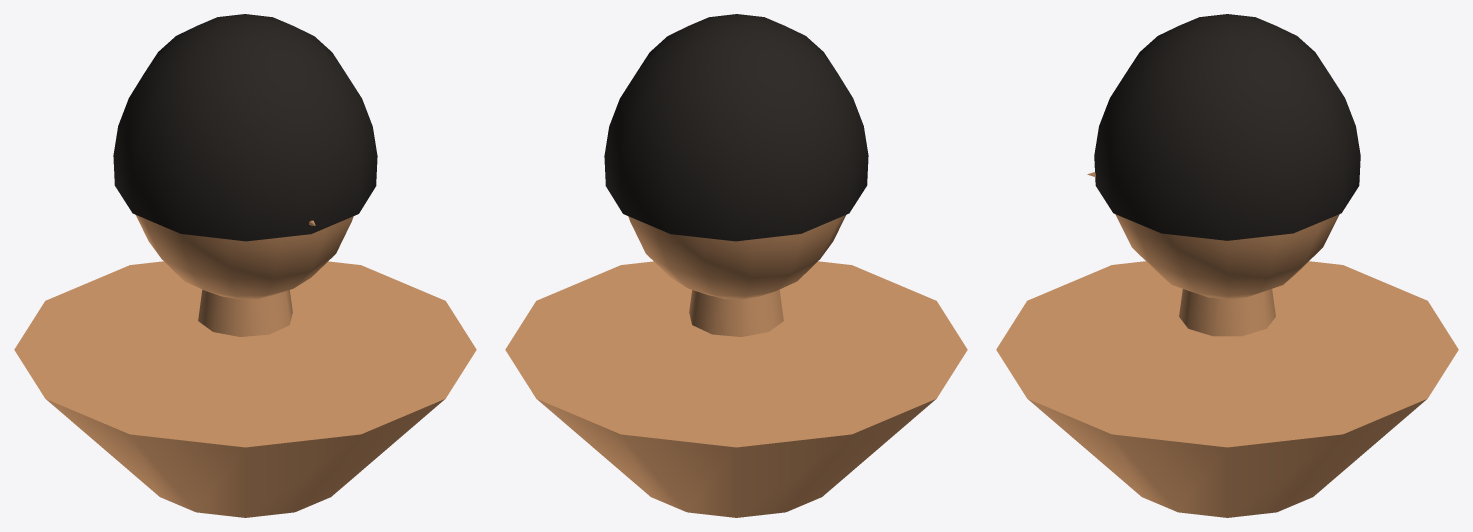
File: raw_003.glb
3 renders of one model, left to right at view 1: azimuth 30°, elevation 25°; view 2: azimuth 150°, elevation 25°; view 3: azimuth 270°, elevation 25°, orthographic.
Bounding box in the file's own units: 2 × 2.16 × 2.
